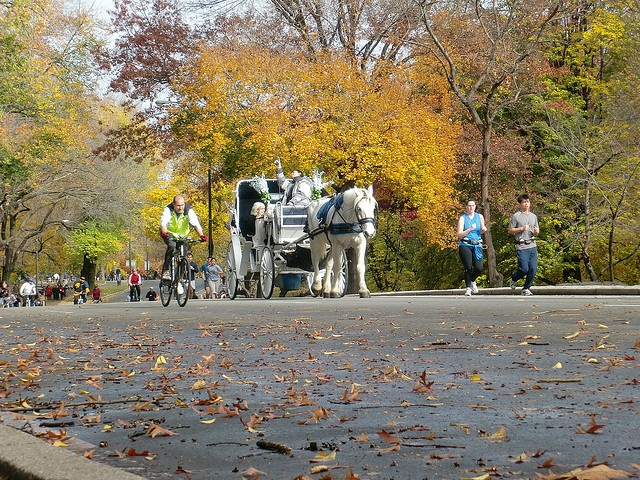non-vehicle: (160, 228, 201, 306), (22, 293, 36, 307), (131, 283, 140, 302)
